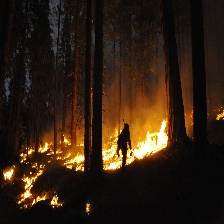fire: (101, 119, 171, 172), (20, 173, 63, 211), (54, 136, 86, 173), (17, 141, 50, 172), (210, 103, 224, 123), (4, 165, 16, 181), (81, 201, 94, 214)
smoke: (111, 78, 164, 127)
